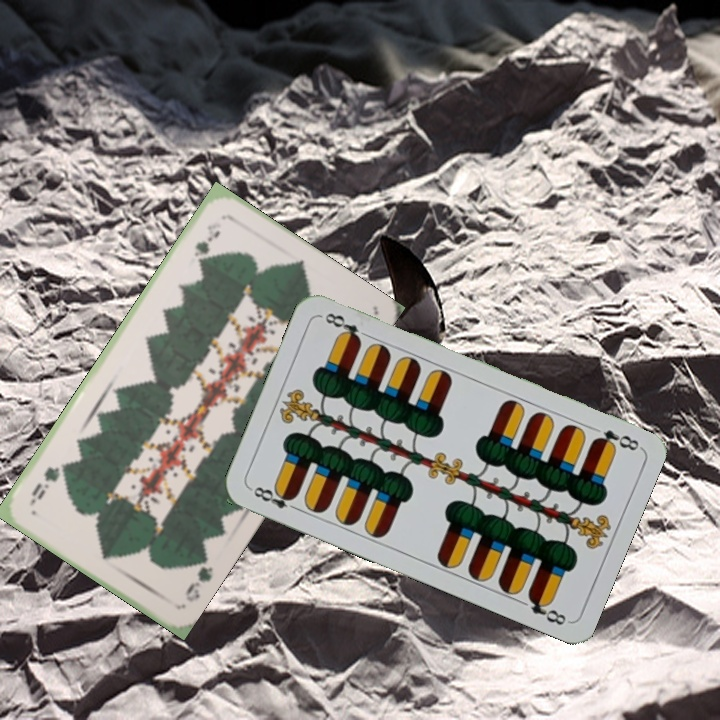E8: (246, 482, 303, 514), (589, 425, 642, 454)
G9: (181, 552, 216, 605), (189, 226, 222, 264)
